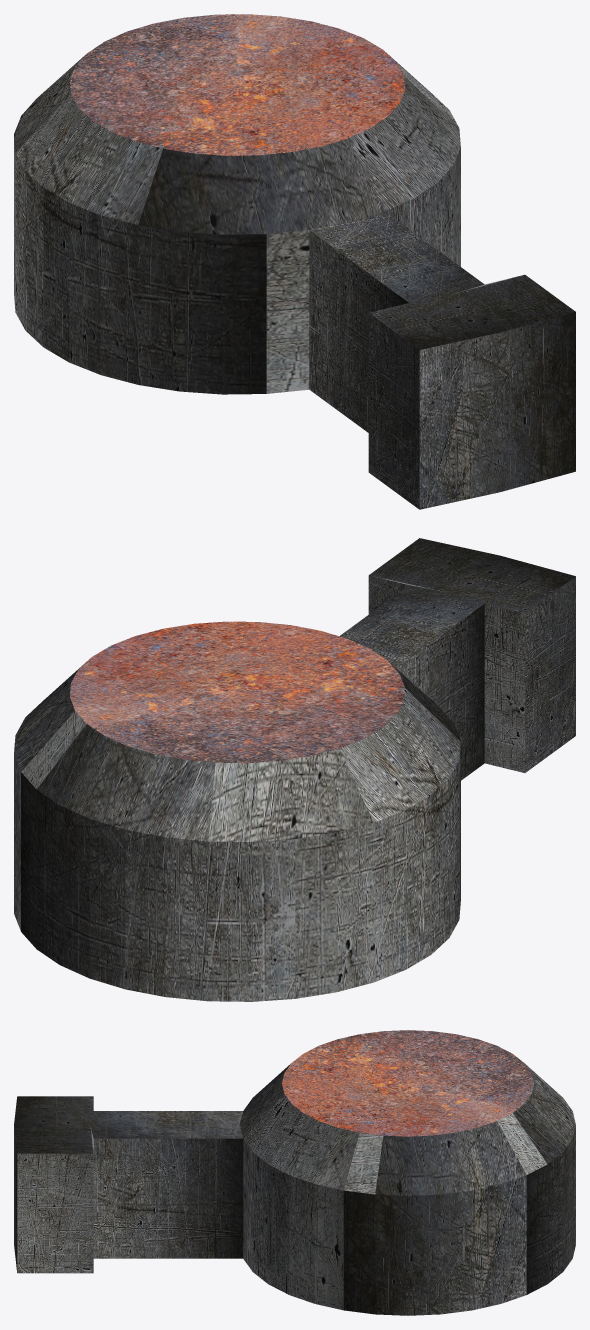
3 views of the same model, one above another, from view 1: azimuth 30°, elevation 25°; view 2: azimuth 150°, elevation 25°; view 3: azimuth 270°, elevation 25° (orthographic). The views are drawn at different scales.
Parts seen in each view (by area): view 1: Cercle, Cercle.002, Cercle.001; view 2: Cercle, Cercle.001, Cercle.002; view 3: Cercle, Cercle.002, Cercle.001.
Boxes of the visible parts, x1=… form: Cercle: x1=14, y1=52, x2=518, y2=394; Cercle.002: x1=309, y1=211, x2=575, y2=509; Cercle.001: x1=70, y1=14, x2=404, y2=155; Cercle: x1=14, y1=576, x2=460, y2=1001; Cercle.001: x1=70, y1=621, x2=404, y2=763; Cercle.002: x1=339, y1=538, x2=575, y2=780; Cercle: x1=90, y1=1064, x2=575, y2=1315; Cercle.002: x1=14, y1=1096, x2=243, y2=1273; Cercle.001: x1=282, y1=1030, x2=533, y2=1136.
Bounding box in the file's own units: 200 × 106 × 334.
